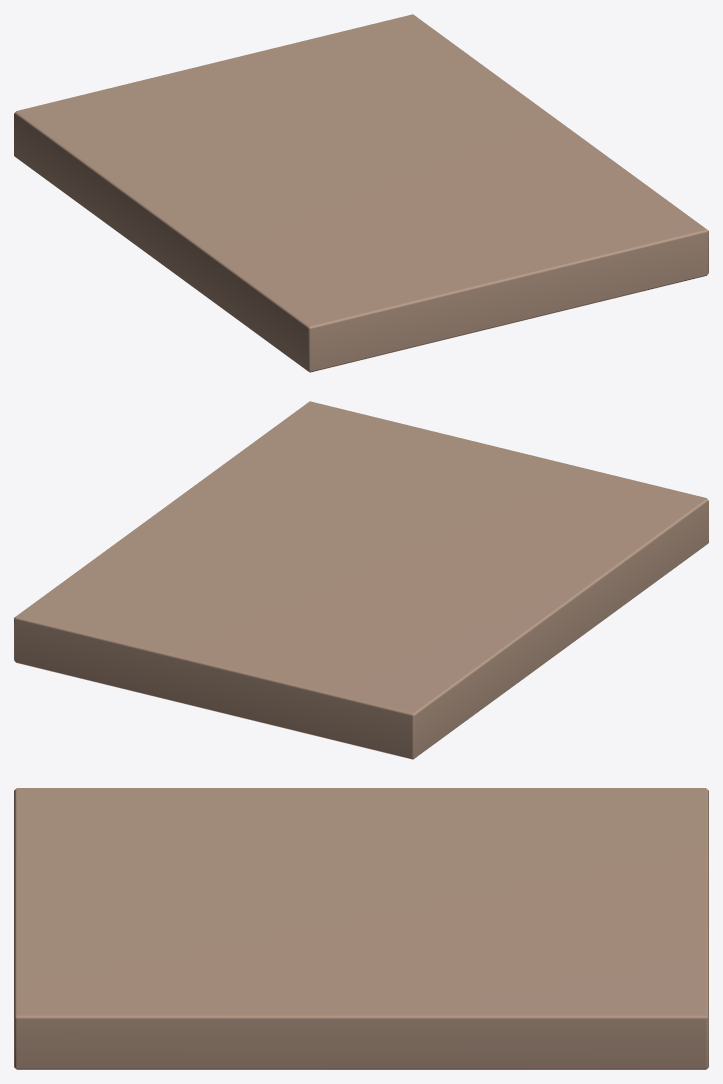
File: Floor_14.glb
3 views of the same model, one above another, from view 1: azimuth 30°, elevation 25°; view 2: azimuth 150°, elevation 25°; view 3: azimuth 270°, elevation 25° (orthographic). The views are drawn at different scales.
Visible parts, largest first — view 1: Floor_14; view 2: Floor_14; view 3: Floor_14.
Boxes of the visible parts, x1,y1,x2,y2 form: Floor_14: [14, 14, 708, 372]; Floor_14: [14, 401, 708, 759]; Floor_14: [14, 788, 708, 1069].
Bounding box in the file's own units: 3.6 × 0.4 × 4.6.
1 material, 1 textured.
